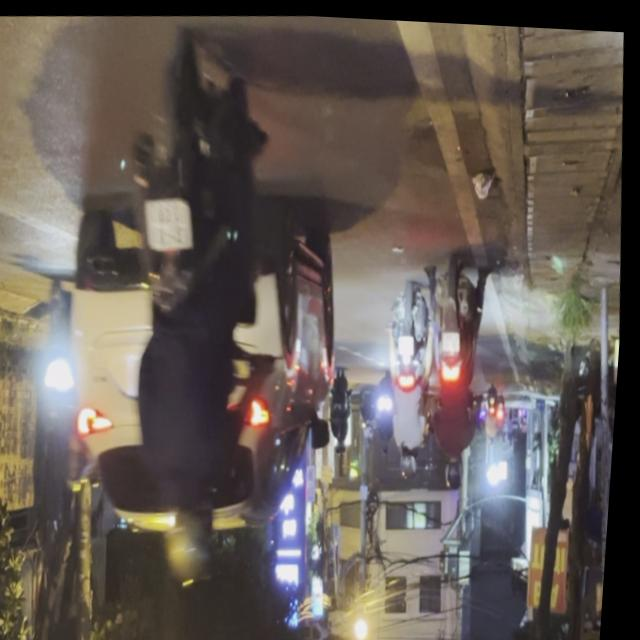helmet: (165, 497, 226, 590), (448, 451, 470, 488)
licenseplate: (100, 21, 304, 601), (419, 249, 502, 491)
nohelmet: (145, 196, 199, 251), (445, 327, 465, 349)
